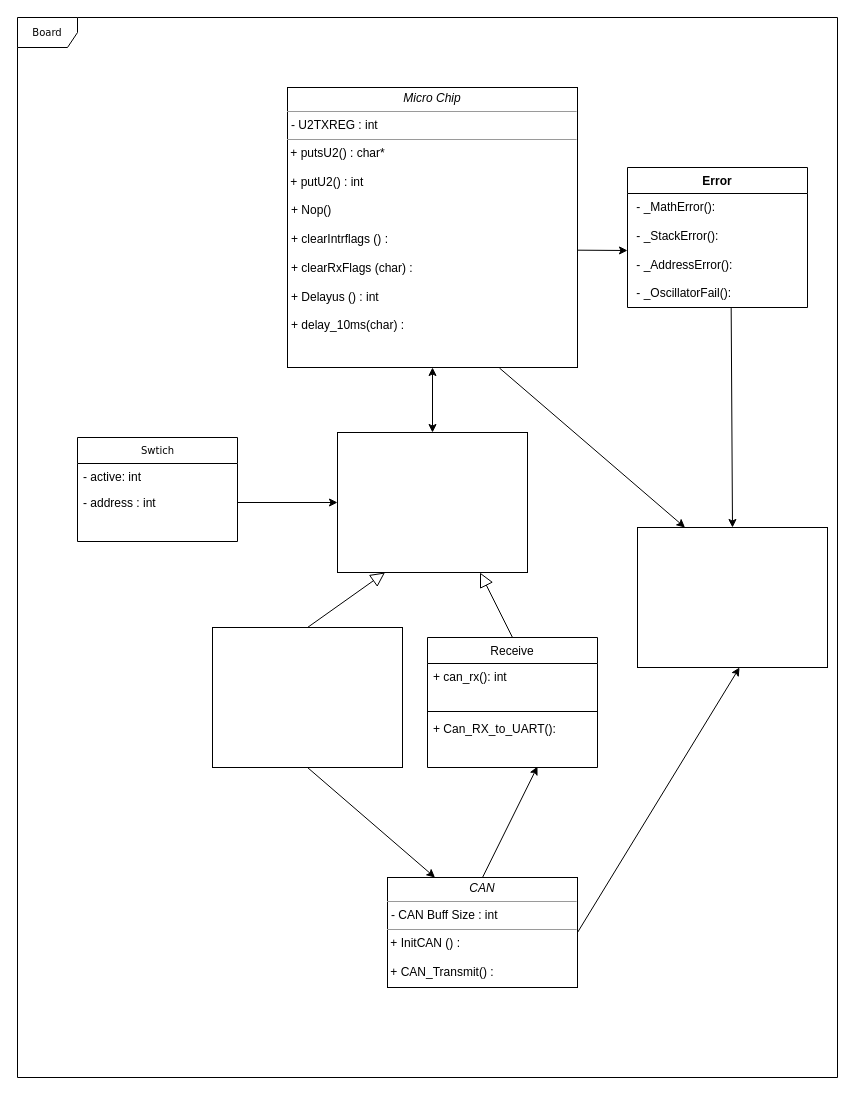
Image size: 855x1095. Some labels were removed from this diagram. Each missing label, with the centre of its shape:
LED - active: int + LED_Transmit() + LED_Receive(): pixel 732 597
Mode - mode: define int + Test_Mode() : + Transmit_Data() : + Receive_Data () :: pixel 432 502
Transmitting - s [string] : char + Can_RX_to_UART () : + Sent_RX_to_UART() :: pixel 307 697
